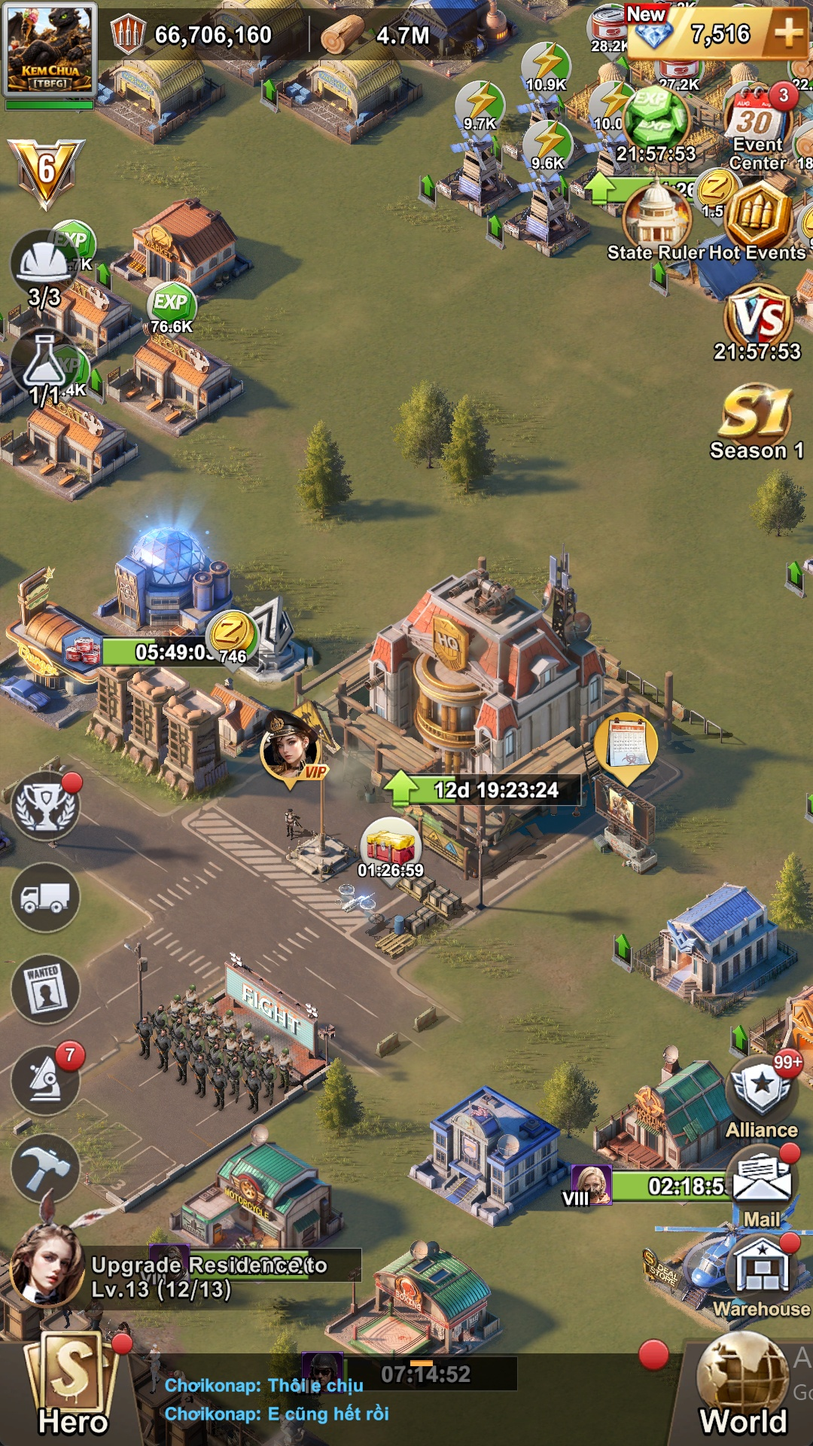Mail: (728, 1145, 801, 1228)
